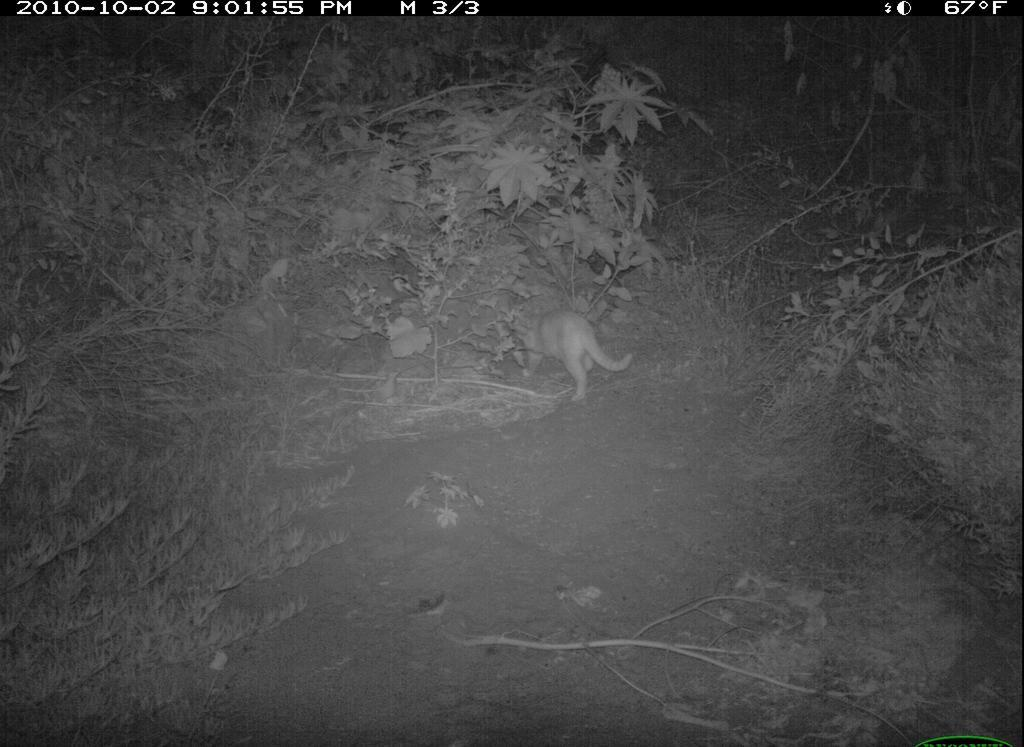cat: (489, 283, 638, 431)
